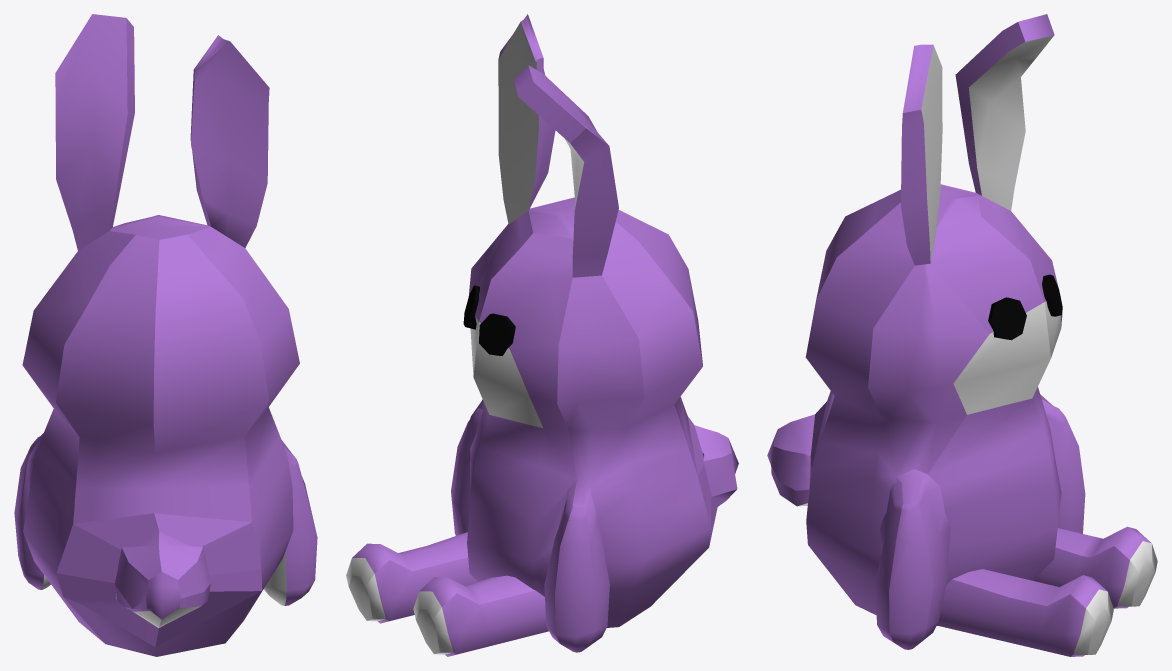
File: Rabbit.fbx
3 views of the same model, side by side, from view 1: azimuth 30°, elevation 25°; view 2: azimuth 150°, elevation 25°; view 3: azimuth 270°, elevation 25° (orthographic). The views are drawn at different scales.
Visible parts, largest first — view 1: pasted__Rabbit; view 2: pasted__Rabbit; view 3: pasted__Rabbit.
Boxes of the visible parts, x1=… form: pasted__Rabbit: x1=14, y1=14, x2=317, y2=656; pasted__Rabbit: x1=346, y1=14, x2=738, y2=656; pasted__Rabbit: x1=767, y1=14, x2=1157, y2=656.
Size of the model in its own units: 0.2129 by 0.4138 by 0.2533.
